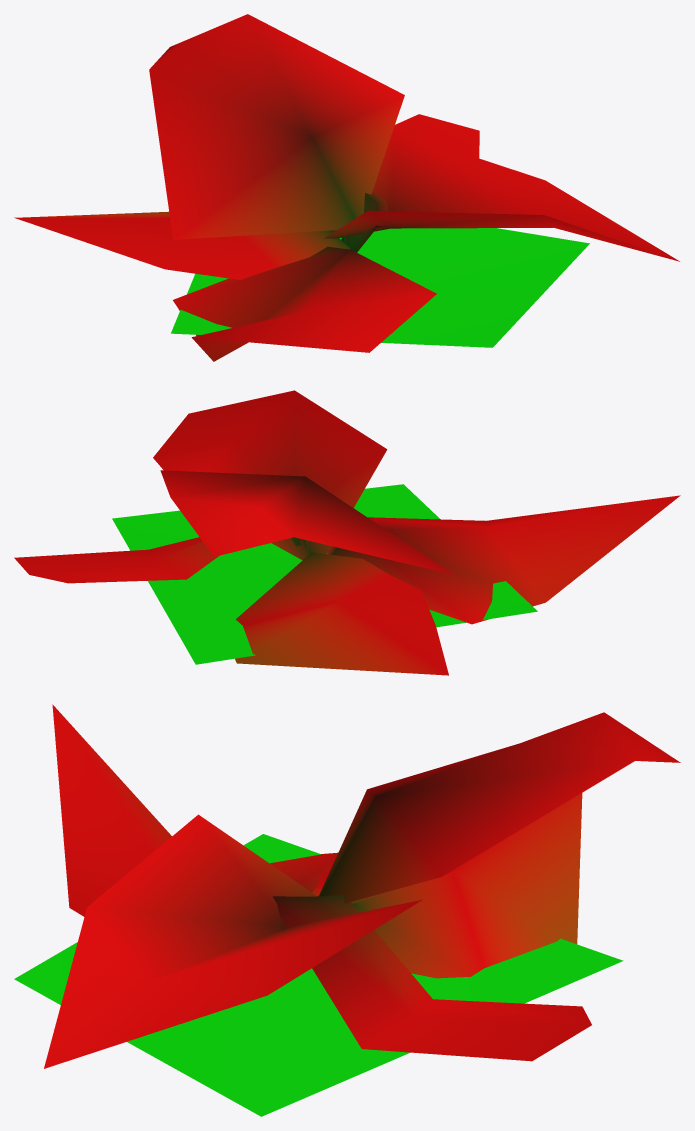
File: Var5_LOD1.fbx
3 views of the same model, one above another, from view 1: azimuth 30°, elevation 25°; view 2: azimuth 150°, elevation 25°; view 3: azimuth 270°, elevation 25° (orthographic). The views are drawn at different scales.
Visible parts, largest first — view 1: Var5_LOD1; view 2: Var5_LOD1; view 3: Var5_LOD1.
Part boxes in pixels (left/top/right/bottom): Var5_LOD1: left=14, top=14, right=679, bottom=361; Var5_LOD1: left=14, top=390, right=680, bottom=675; Var5_LOD1: left=14, top=704, right=680, bottom=1116.
Bounding box in the file's own units: 156 × 54.12 × 141.
